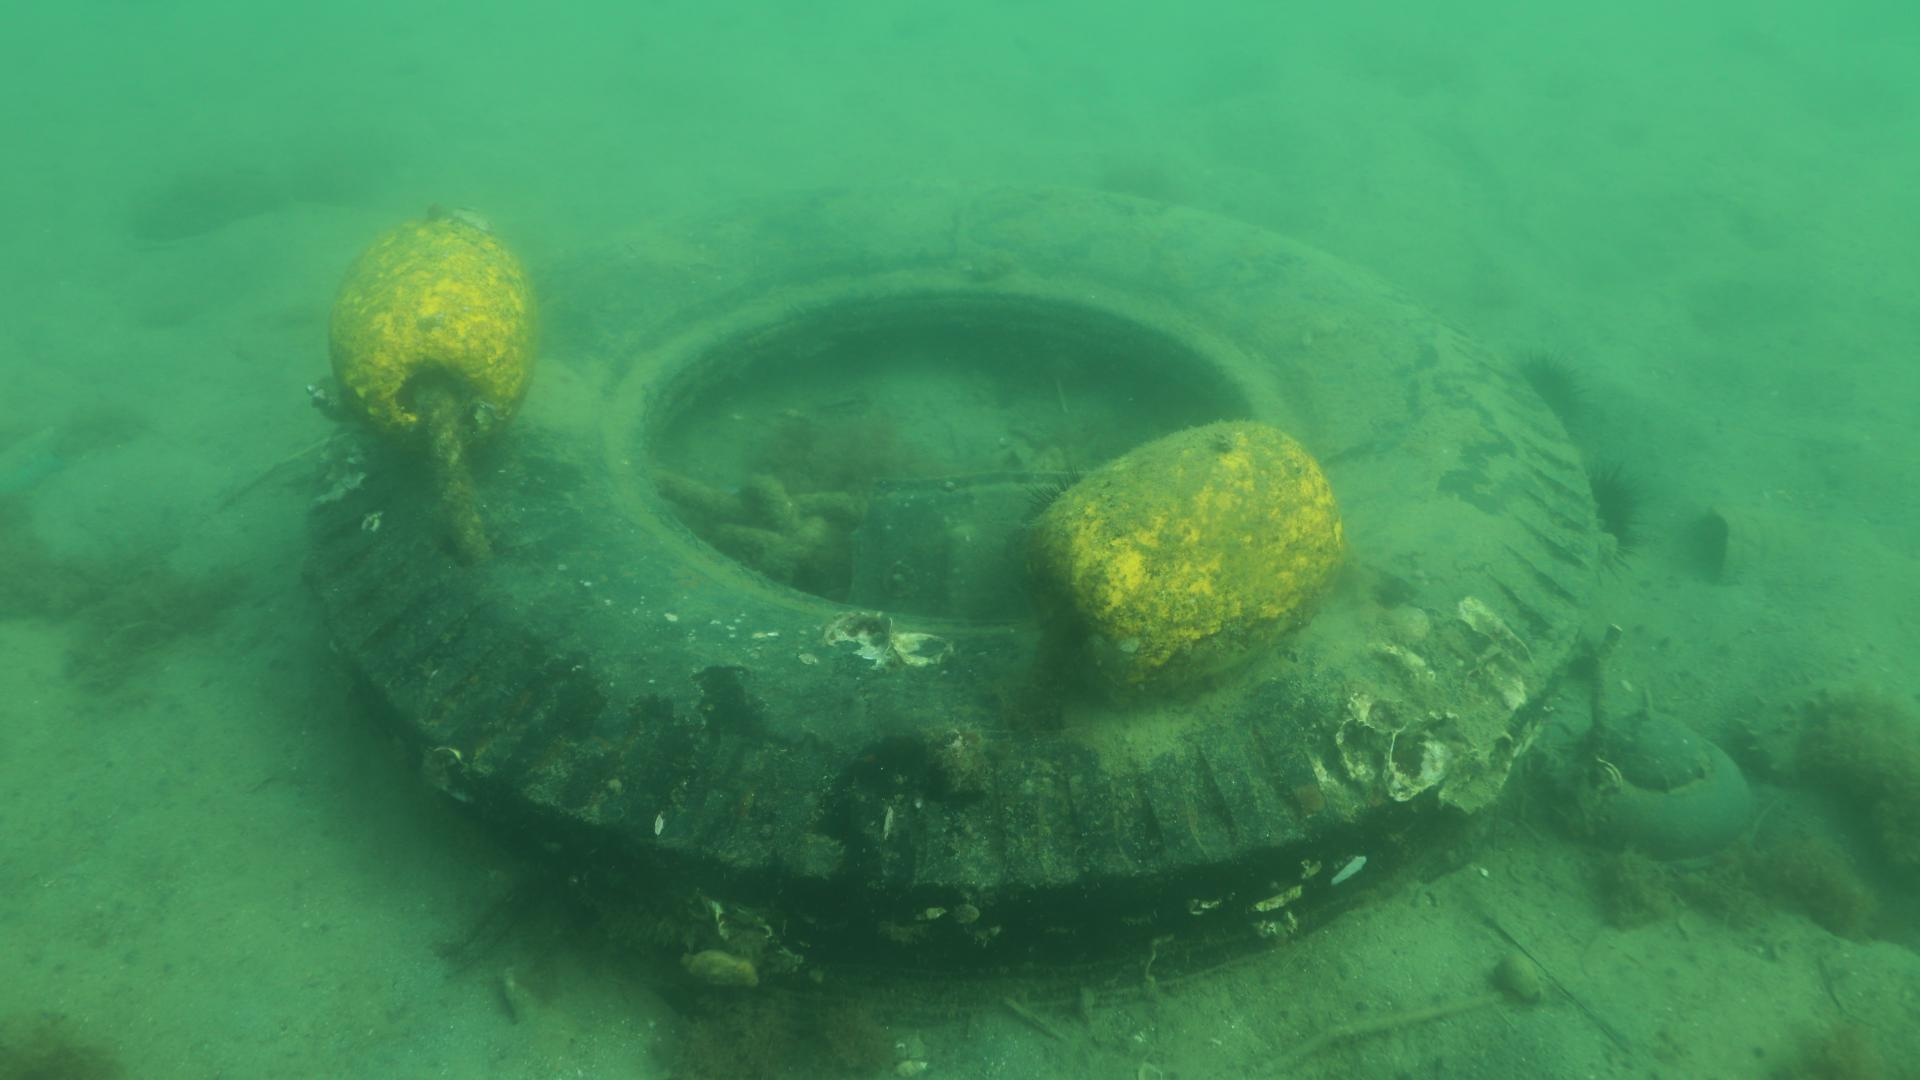bundle of ropes: (647, 471, 861, 574)
tire: (302, 179, 1600, 1011)
